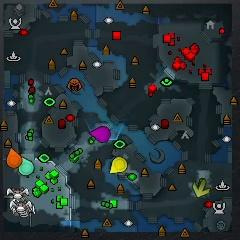p2: (19, 157, 34, 175)
p3: (91, 126, 111, 143)
p4: (109, 157, 128, 174)
p5: (7, 148, 21, 168)
x2: (193, 179, 210, 197)
